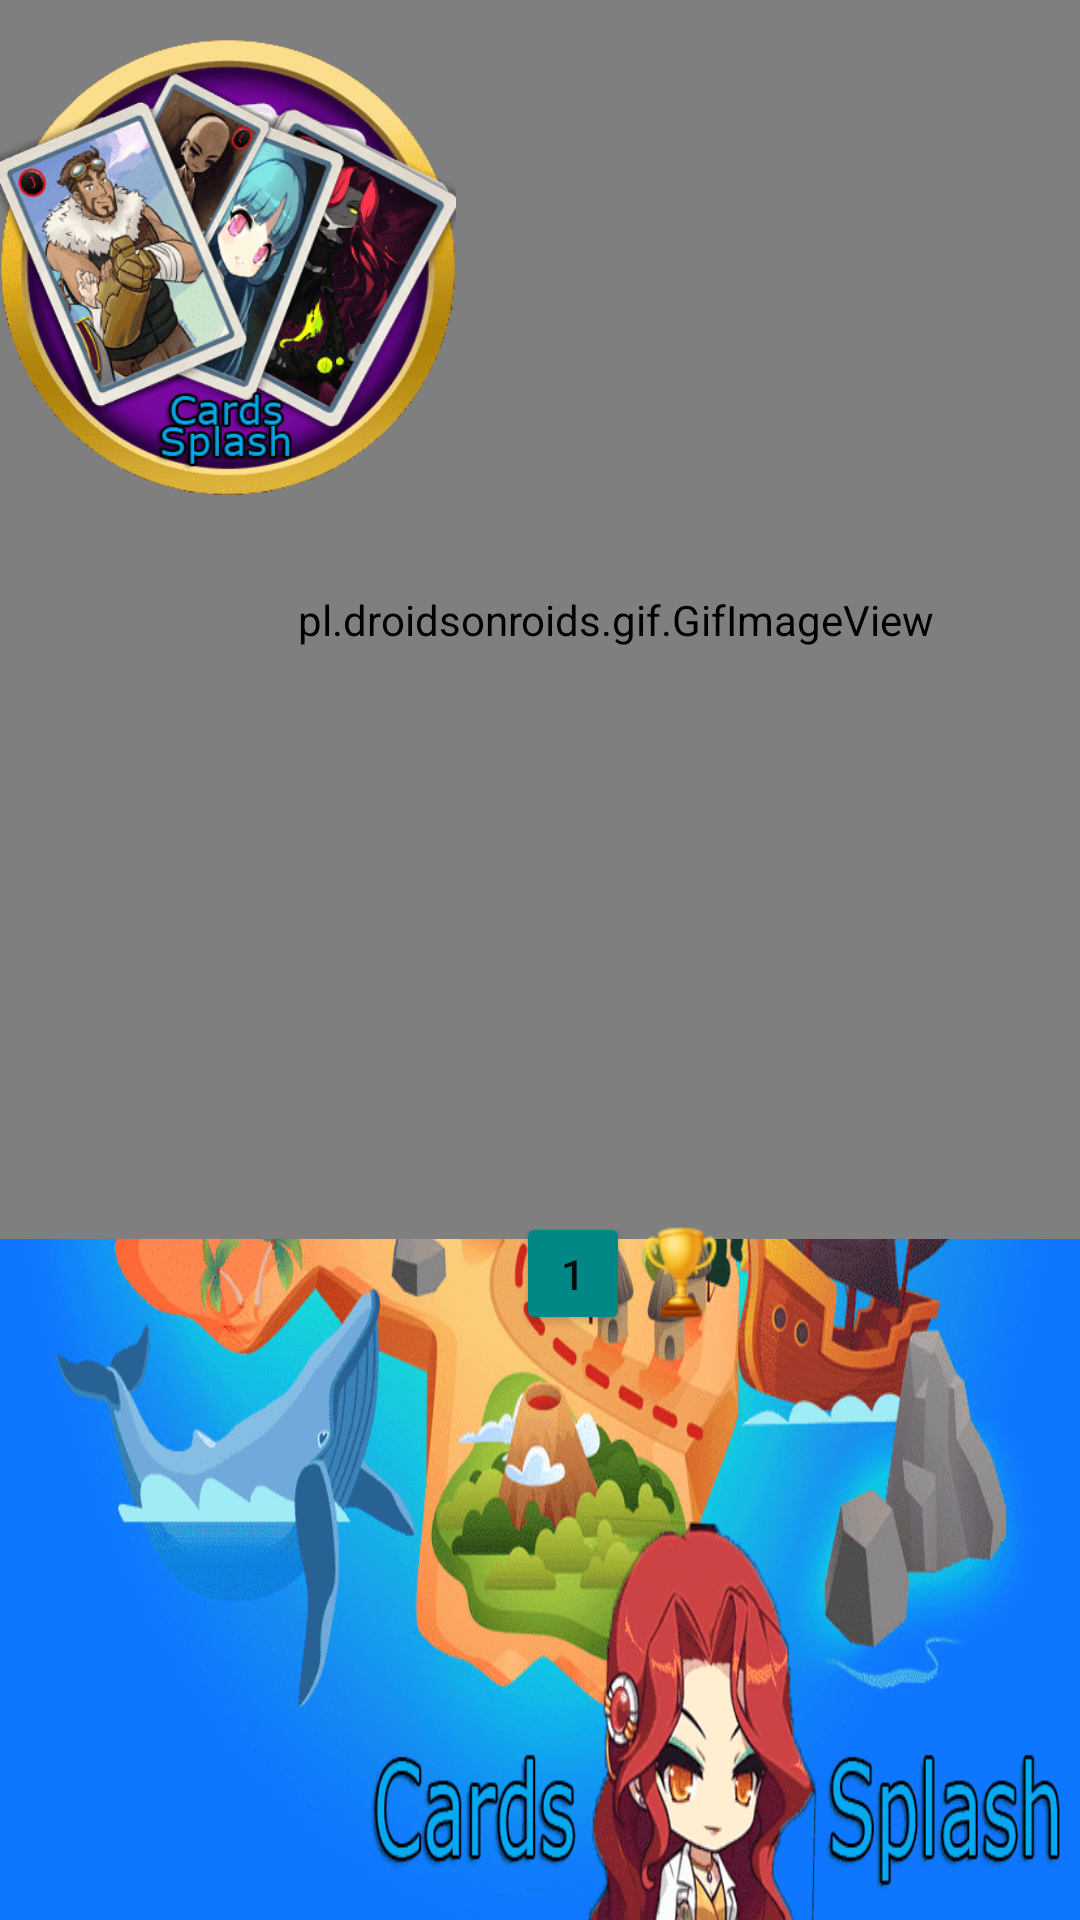

Where to tap for icons on this 1080*1920 app screen, as point (x, y):
thropy: point (681, 1273)
